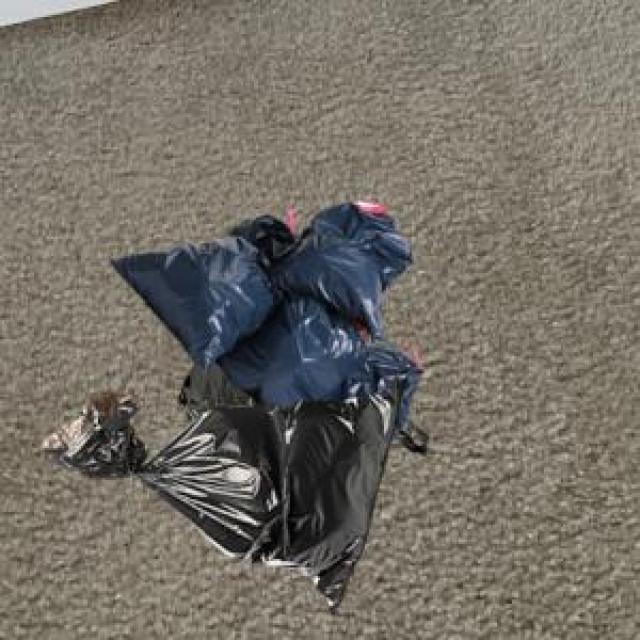Vinyl: (49, 202, 428, 611)
